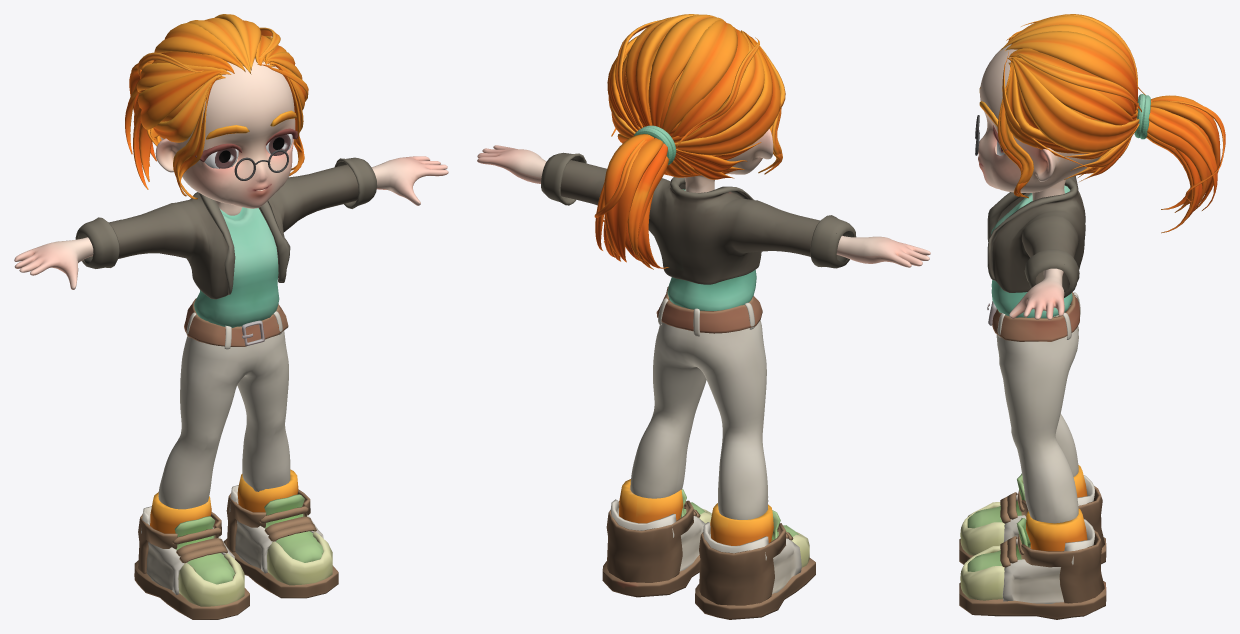
The model's file is Prof1_low.fbx.
3 renders of one model, left to right at view 1: azimuth 30°, elevation 25°; view 2: azimuth 150°, elevation 25°; view 3: azimuth 270°, elevation 25°, orthographic. The views are drawn at different scales.
Visible parts, largest first — view 1: Prof1_low.001; view 2: Prof1_low.001; view 3: Prof1_low.001.
Boxes of the visible parts, box(x1,y1,x2,y2) form: Prof1_low.001: box(14, 14, 448, 619); Prof1_low.001: box(477, 14, 930, 619); Prof1_low.001: box(959, 14, 1225, 619).
Size of the model in its own units: 66.95 by 82.12 by 35.52.
